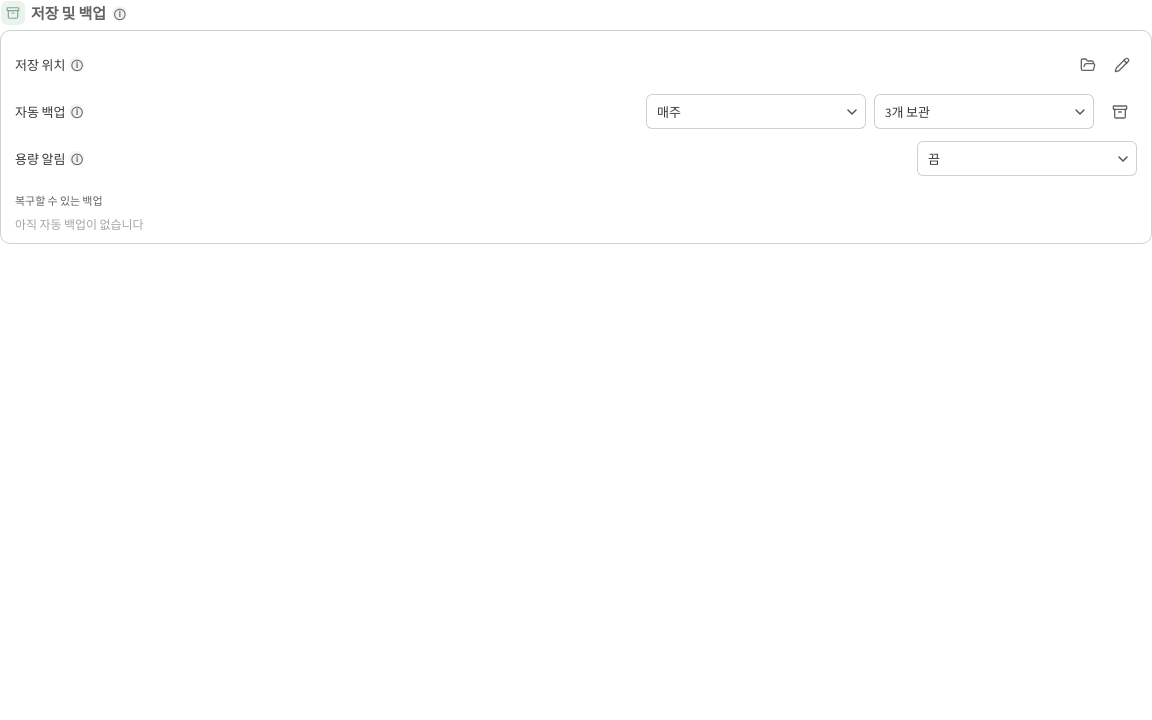
Test: StorageBackupCard › 저장 위치 › 확인창의 위치 변경을 누르면 main 창에 이동을 요청할 뿐, apply 를 직접 부르지 않는다
The image size is (1152, 720).
Click the button with test id "settings-data-location-change".
click(1122, 64)  # box top-left (1107, 50), bottom-right (1137, 80)
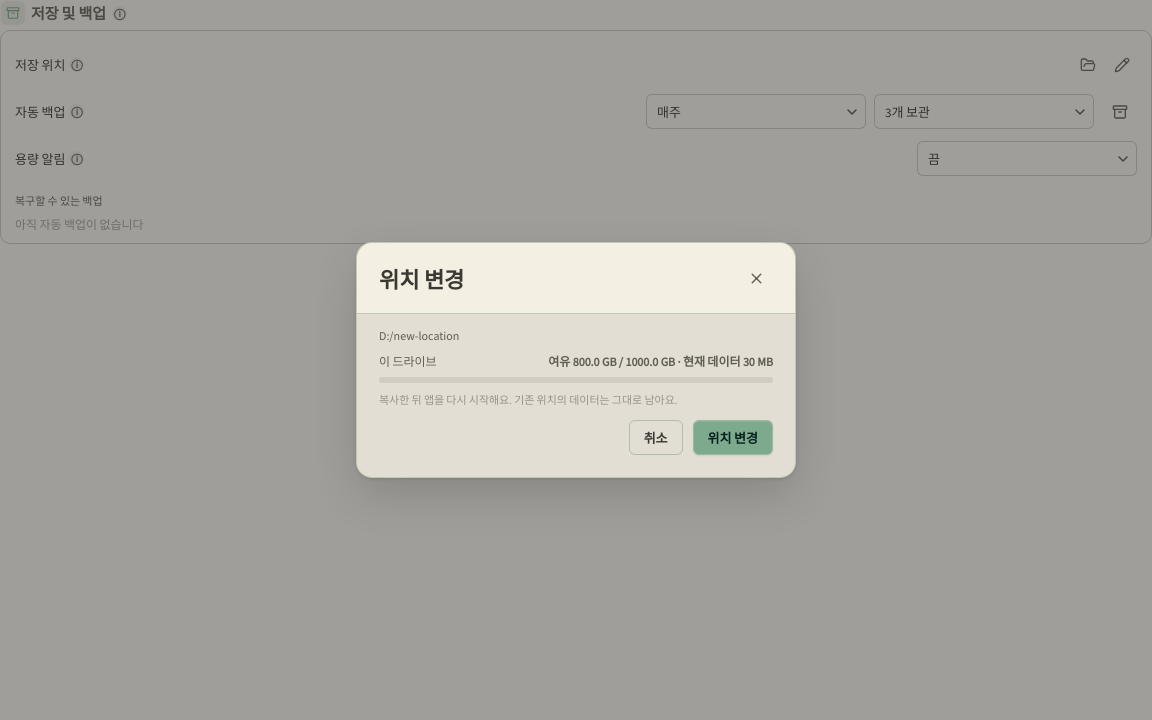
Check: the element with test id "settings-data-location-space-bar" is shown, box top-left (379, 354), bottom-right (773, 383)
Click the button with test id "settings-data-location-confirm".
click(733, 437)  # box top-left (692, 420), bottom-right (773, 455)
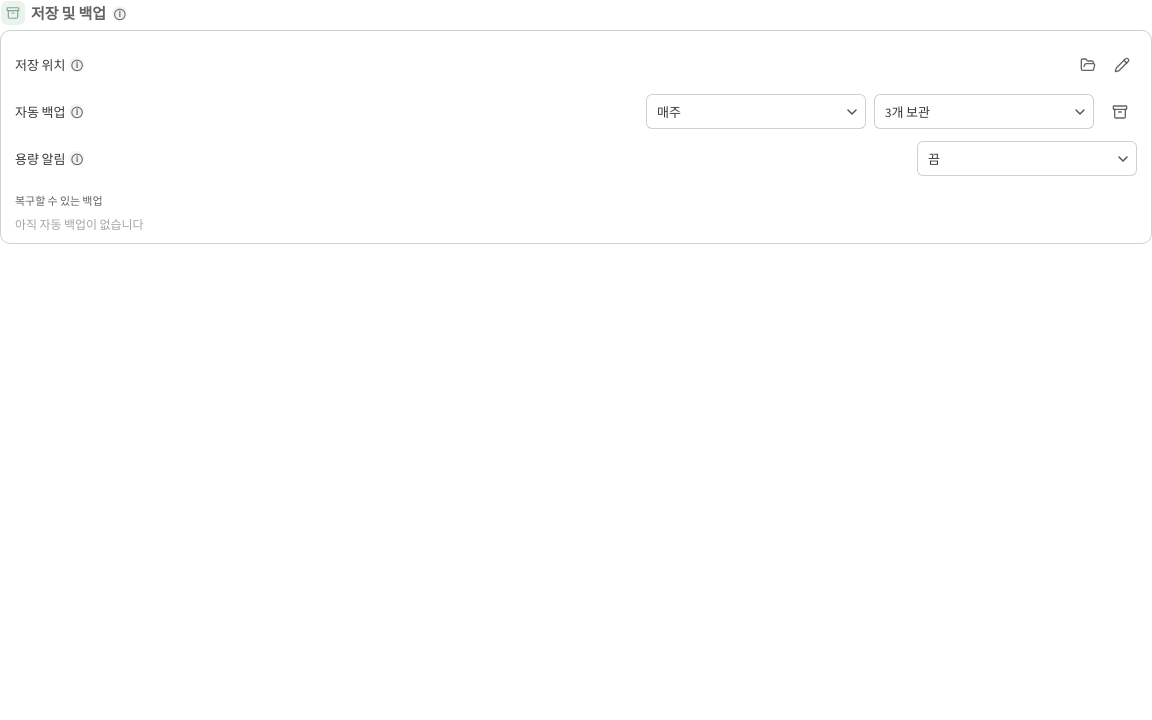
Check: the button with test id "settings-data-location-confirm" is gone
